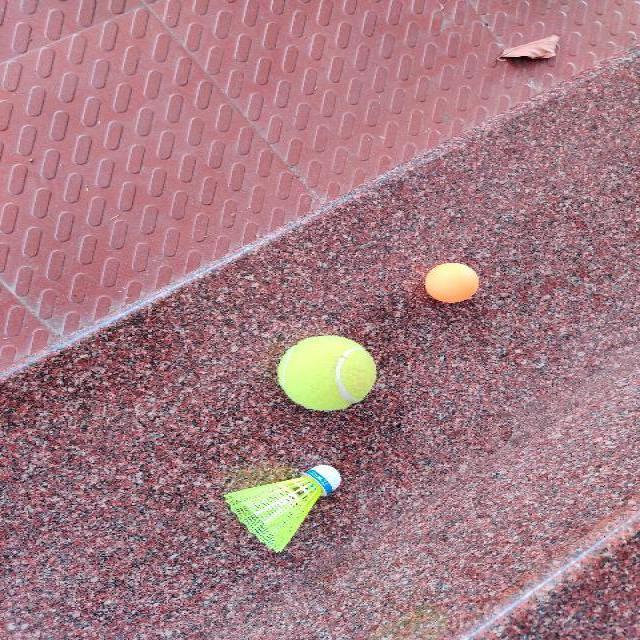ping-pong-ball: (426, 262, 478, 304)
